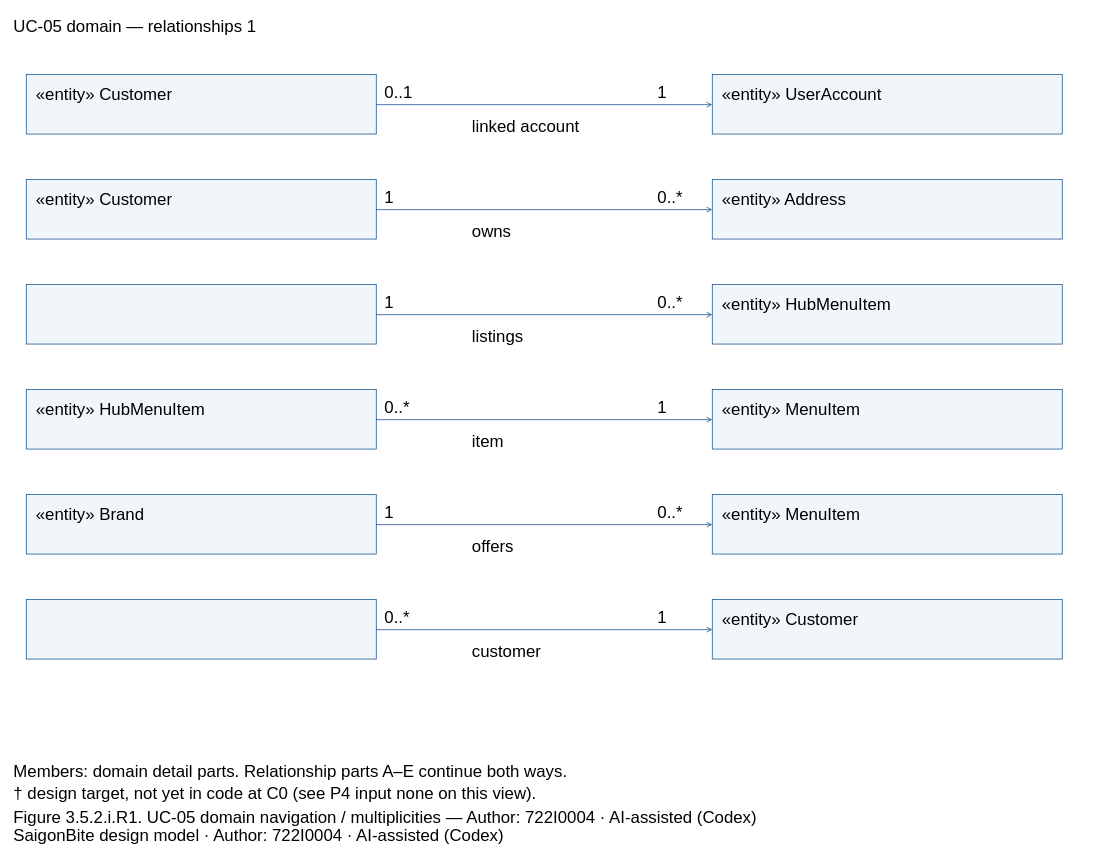
Some shapes in this 1095 by 858 pixel diagram are drawn without their labels. The box of each missing label's shape, as (x1, y1, x2, y2) in pixels:
«entity» Hub: (26, 284, 376, 344)
«entity» Order: (26, 599, 376, 659)
